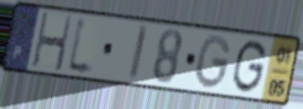8: (152, 27, 185, 86)
G: (194, 32, 233, 92), (230, 38, 269, 96)
H: (30, 11, 74, 75)
I: (126, 22, 150, 83)
L: (64, 13, 97, 80)
